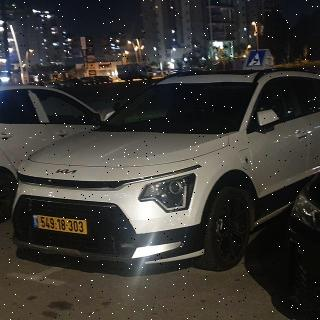LicensePlate: (36, 216, 88, 234)
